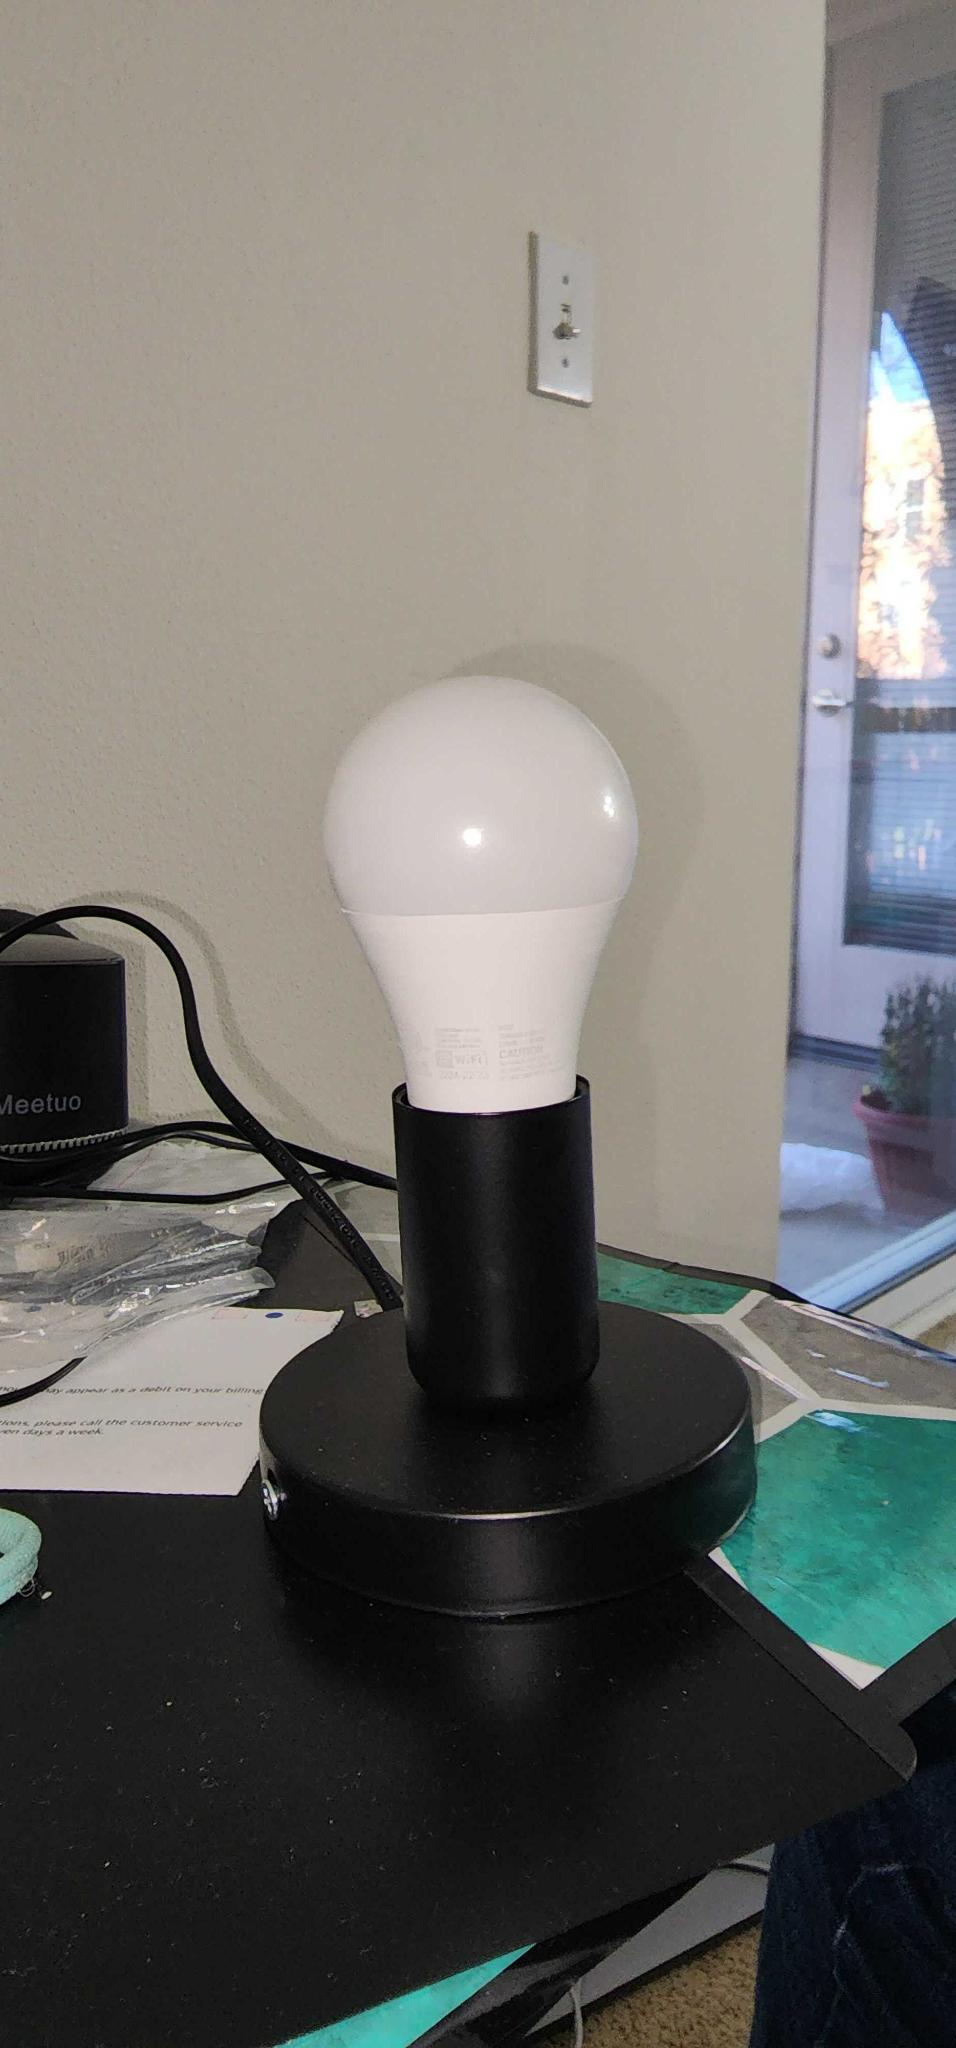Fan: (319, 671, 639, 1400)
